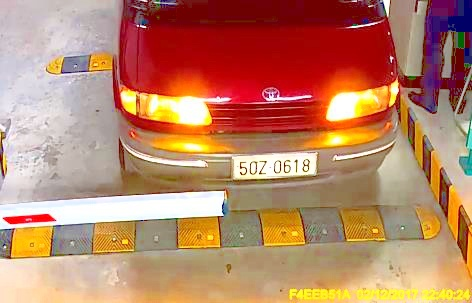plate: (232, 151, 317, 180)
